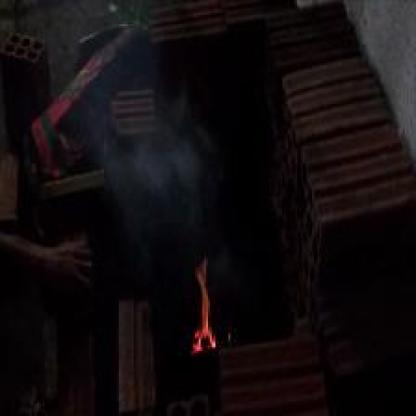fire: (177, 229, 230, 357)
